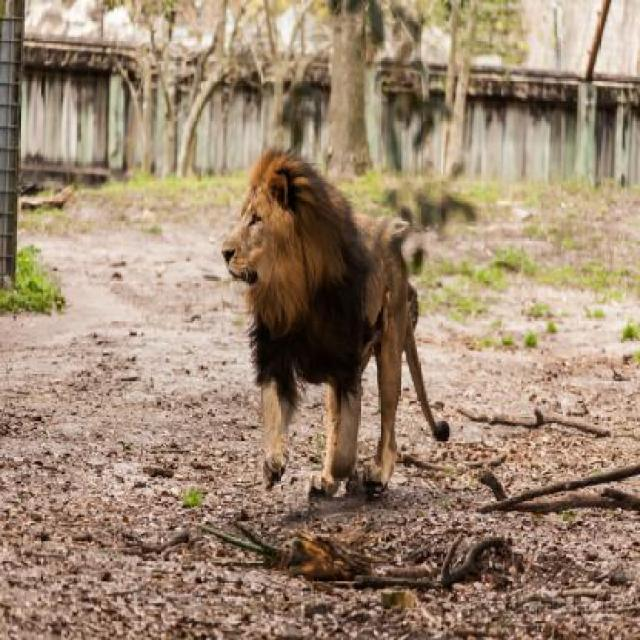Lion: (214, 147, 478, 516)
